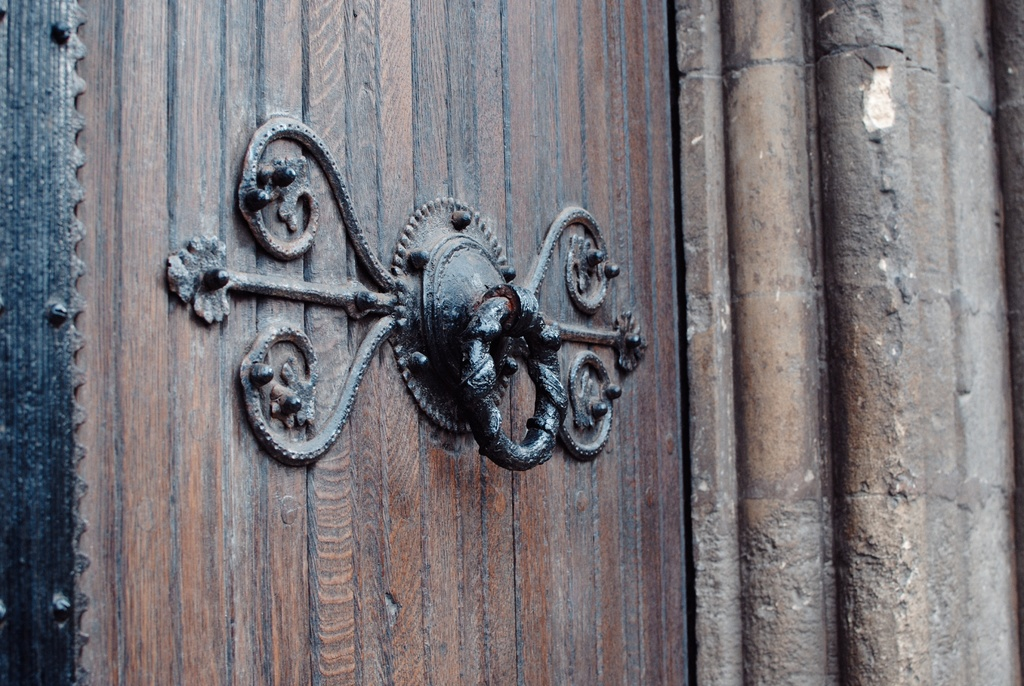door: (68, 4, 680, 676)
handle: (466, 278, 574, 485)
